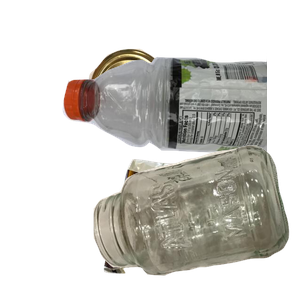glass: (91, 143, 300, 300)
metal: (86, 46, 248, 169)
plastic: (60, 53, 300, 201)
trash: (101, 157, 270, 300)
